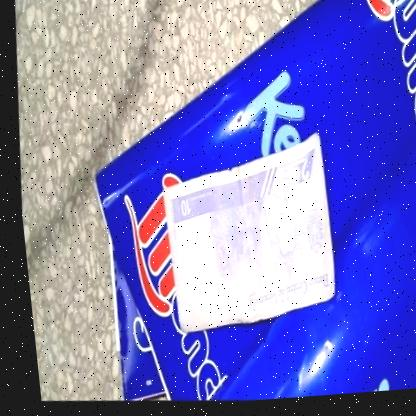ten-back-vef: (144, 127, 343, 345)
